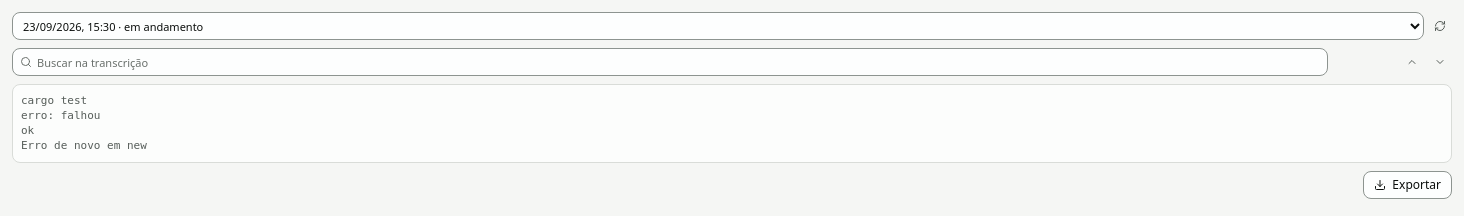
Scenario: aba Logs › exporta a sessão escolhida para o arquivo do diálogo de salvar
Click the button "Exportar" at coordinates (1408, 184), box [1363, 170, 1452, 198]
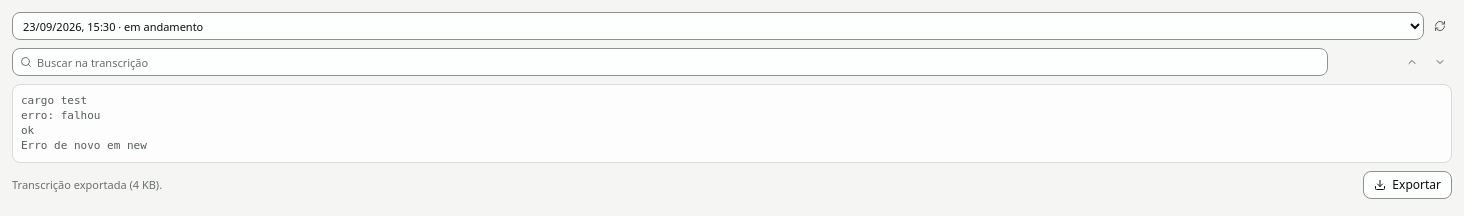
Now the text "Transcrição exportada (4 KB)." is shown, box [12, 178, 162, 192]
